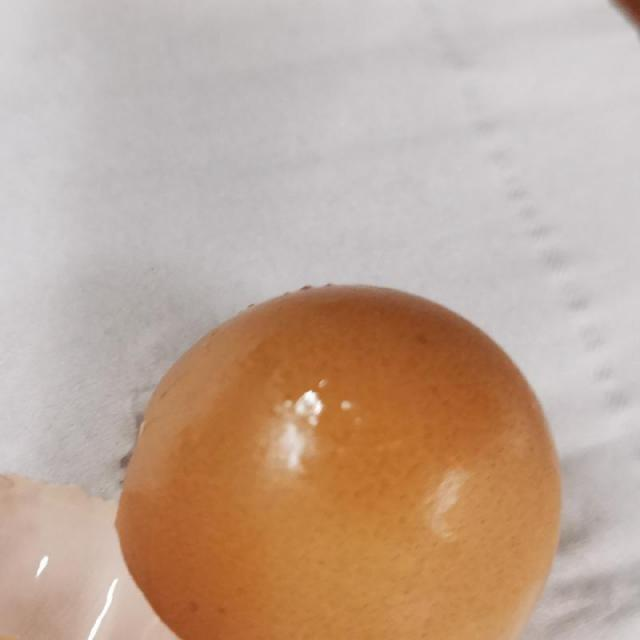egg shell: (118, 280, 562, 640)
